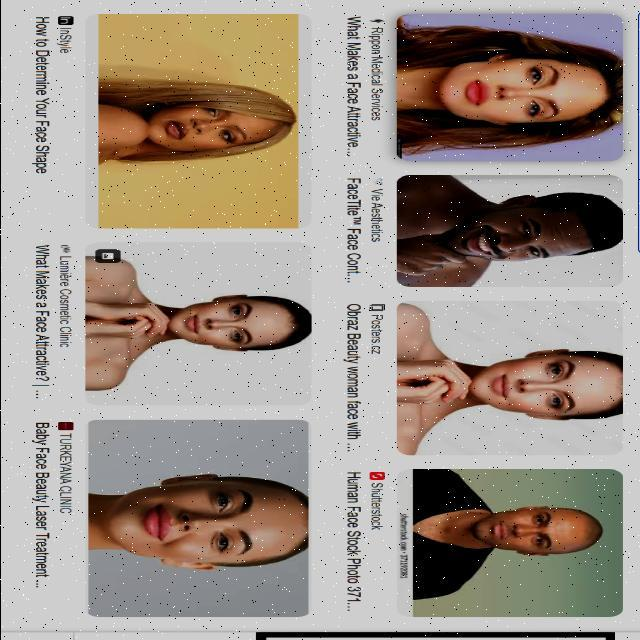face_no_mask: (109, 474, 300, 572), (448, 54, 612, 128), (467, 349, 617, 421), (444, 194, 587, 264), (174, 292, 298, 354), (473, 505, 599, 558), (147, 104, 271, 155)
